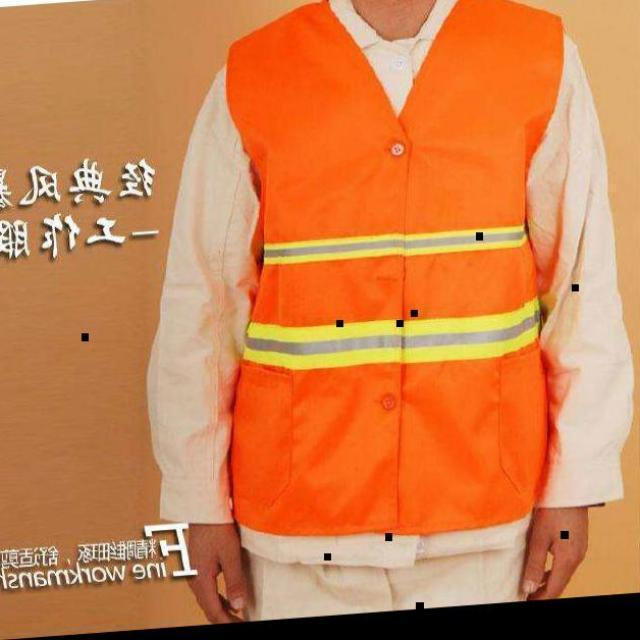safety_helmet: (160, 4, 624, 532)
